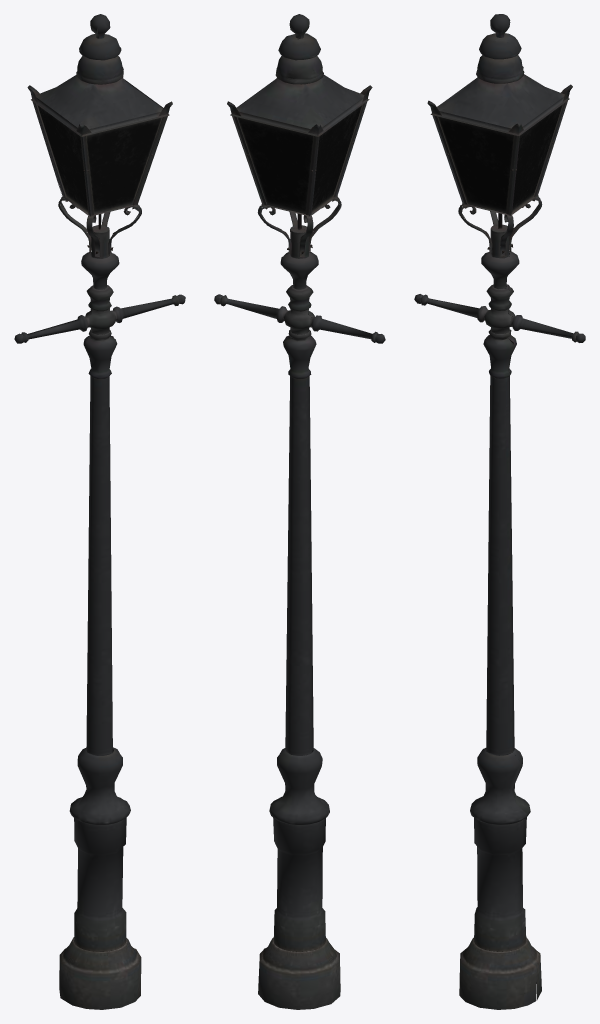
Rendered from ph_street_lamp_01.glb.
3 views of the same model, side by side, from view 1: azimuth 30°, elevation 25°; view 2: azimuth 150°, elevation 25°; view 3: azimuth 330°, elevation 25° (orthographic).
Parts seen in each view (by area): view 1: street_lamp_01; view 2: street_lamp_01; view 3: street_lamp_01.
Part boxes in pixels (x1,y1,x2,y2): street_lamp_01: (14, 14, 185, 1009); street_lamp_01: (214, 14, 385, 1009); street_lamp_01: (414, 14, 585, 1009).
Bounding box in the file's own units: 0.704 × 3.87 × 0.3842.
Materials: 3 (3 with a texture image).
